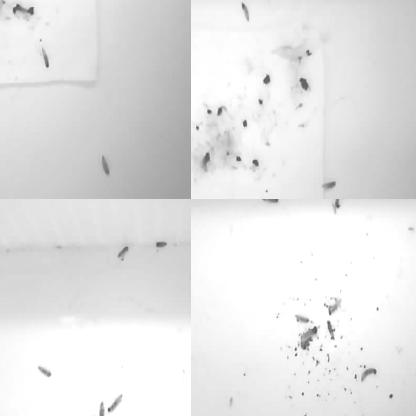PtecticusTenebrifer: (300, 326, 318, 344), (360, 366, 378, 383), (107, 394, 122, 414), (327, 299, 343, 316), (116, 244, 130, 261), (100, 154, 110, 176), (326, 320, 336, 340), (320, 180, 338, 191), (37, 365, 51, 379), (42, 45, 50, 69), (294, 313, 310, 325), (259, 199, 279, 206), (242, 3, 249, 22), (393, 199, 410, 206), (0, 290, 5, 312), (156, 240, 168, 249), (333, 199, 342, 210), (0, 248, 9, 257), (99, 400, 104, 416), (191, 145, 197, 158), (191, 46, 197, 58), (405, 199, 416, 204), (191, 0, 195, 10), (191, 199, 198, 204), (0, 4, 2, 21)
